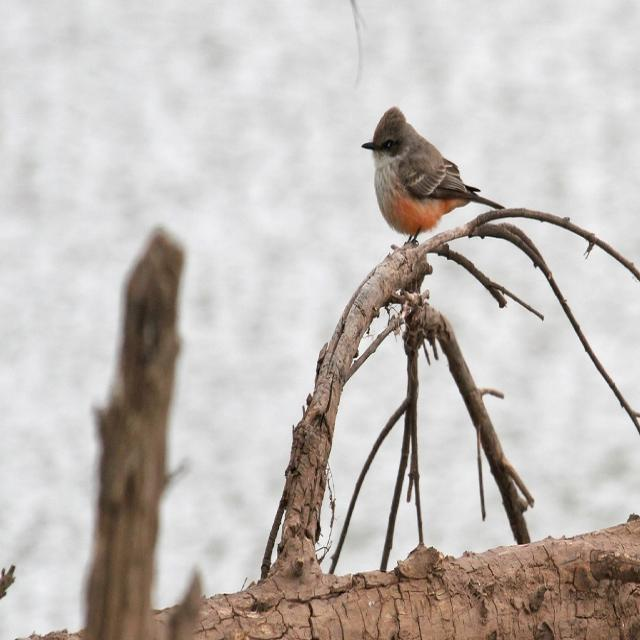bird: (362, 109, 499, 254)
